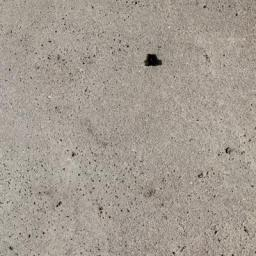FOD: (141, 52, 167, 70)
